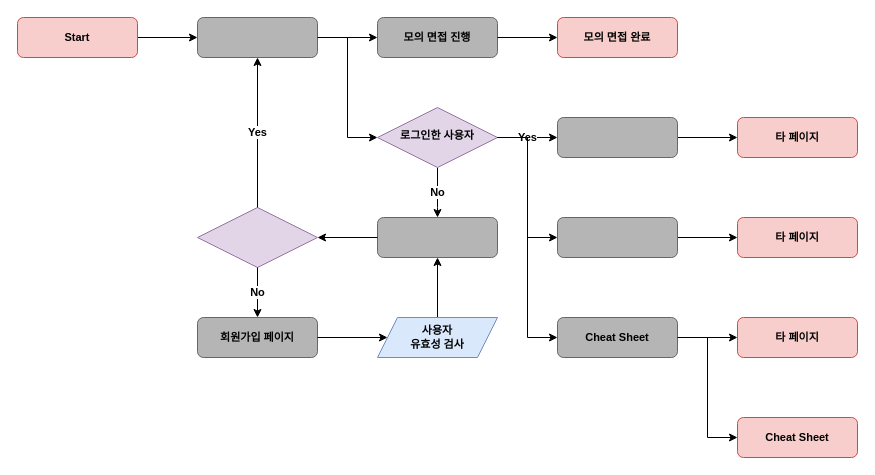
This 875x475 diagram has some shape labels left out. Each missing label, with the centre of its shape:
AI Chat: pixel 617 137
Only For me: pixel 617 237
로그인 페이지: pixel 437 237
메인 페이지: pixel 257 37
본인 계정이 있는 사용자: pixel 257 237
